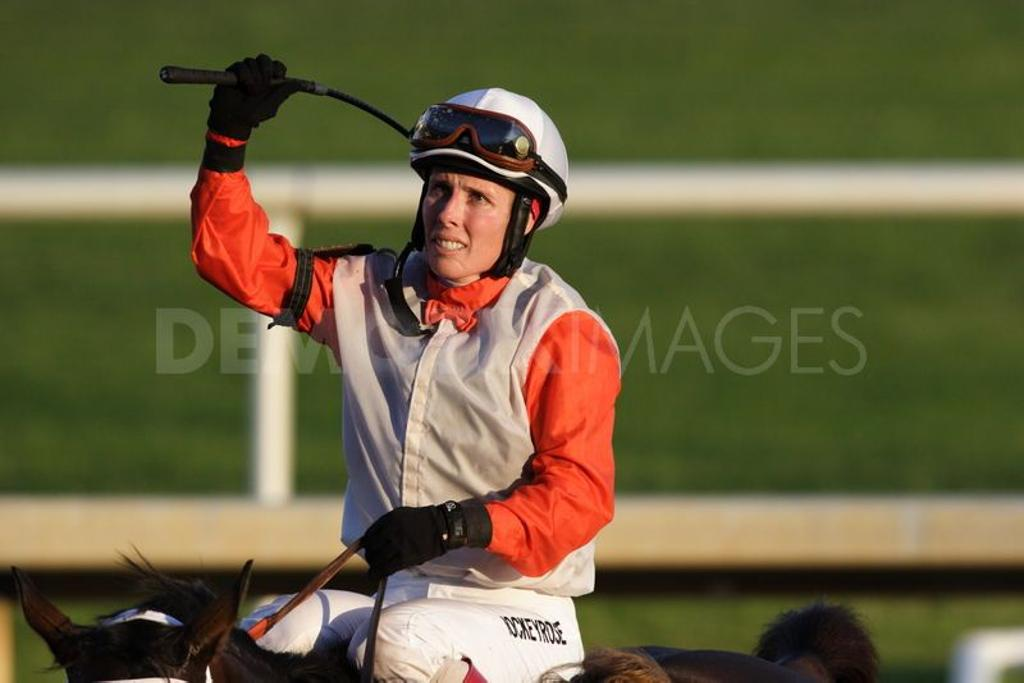face: (423, 131, 509, 271)
